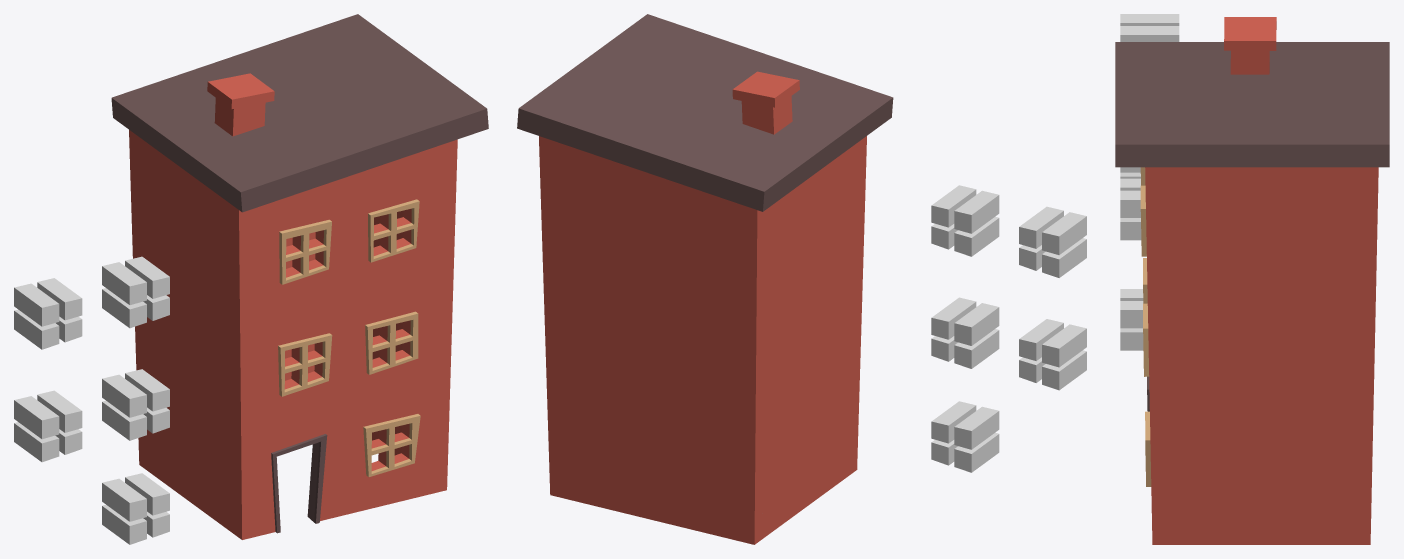
The model's file is small apartment building.fbx.
The picture shows the model from 3 angles, left to right: view 1: azimuth 30°, elevation 25°; view 2: azimuth 150°, elevation 25°; view 3: azimuth 270°, elevation 25°; orthographic projection. The views are drawn at different scales.
Parts seen in each view (by area): view 1: Cube.003, Cube.004, Cube.000, Cube.002, Cube.001, Cube.005, Cube; view 2: Cube.003, Cube.005, Cube.002, Cube.001, Cube.000, Cube.004, Cube; view 3: Cube.003, Cube, Cube.004, Cube.005, Cube.001.
Part boxes in pixels (x1,y1,x2,y2): Cube.003: (111, 14, 488, 539); Cube.004: (14, 278, 82, 349); Cube.000: (14, 390, 82, 462); Cube.002: (102, 256, 169, 328); Cube.001: (102, 369, 169, 440); Cube.005: (102, 473, 169, 544); Cube: (207, 73, 274, 136); Cube.003: (517, 14, 893, 544); Cube.005: (931, 401, 999, 472); Cube.002: (931, 185, 999, 256); Cube.001: (931, 297, 999, 368); Cube.000: (1019, 319, 1086, 390); Cube.004: (1019, 206, 1086, 277); Cube: (732, 71, 799, 134); Cube.003: (1115, 42, 1389, 544); Cube: (1224, 17, 1276, 74); Cube.004: (1120, 14, 1179, 41); Cube.005: (1120, 289, 1143, 350); Cube.001: (1120, 178, 1141, 240).
Size of the model in its own units: 499 by 440 by 251.
